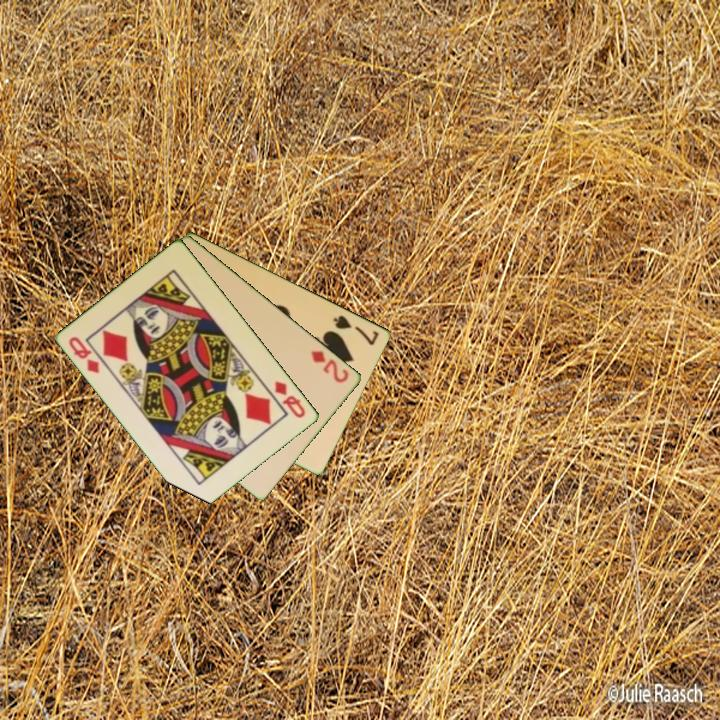2d: (308, 347, 352, 386)
7s: (330, 311, 382, 348)
Qd: (271, 377, 309, 421), (66, 333, 103, 376)
